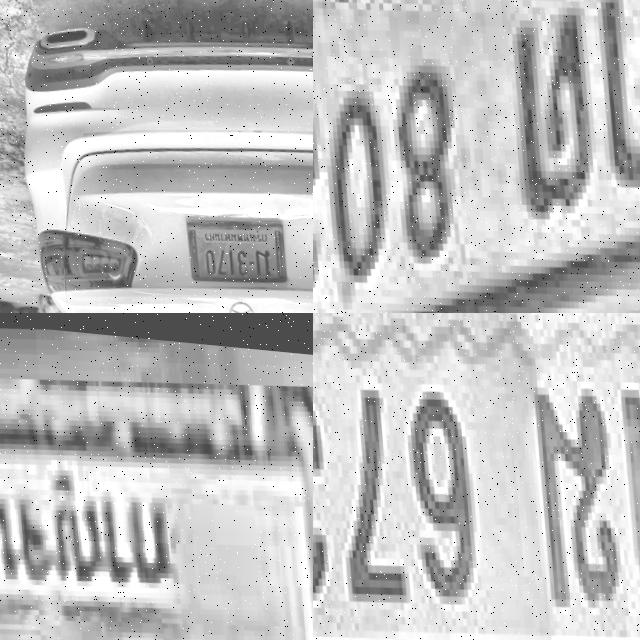license-plate: (313, 313, 640, 640), (313, 0, 640, 313), (0, 324, 313, 640), (182, 202, 287, 285)
